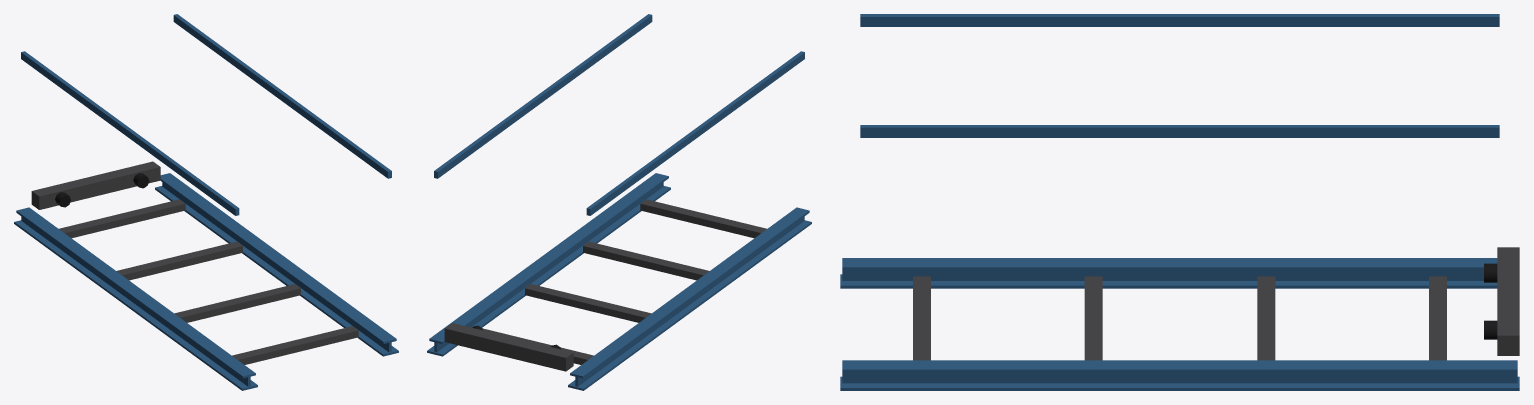
File: c20_rail.obj
3 views of the same model, side by side, from view 1: azimuth 30°, elevation 25°; view 2: azimuth 150°, elevation 25°; view 3: azimuth 270°, elevation 25° (orthographic). The views are drawn at different scales.
Visible parts, largest first — view 1: c20_rail; view 2: c20_rail; view 3: c20_rail.
Boxes of the visible parts, x1,y1,x2,y2 form: c20_rail: (14, 14, 398, 390); c20_rail: (427, 14, 811, 390); c20_rail: (840, 14, 1519, 390).
Size of the model in its own units: 2.4 by 2.59 by 6.06.
